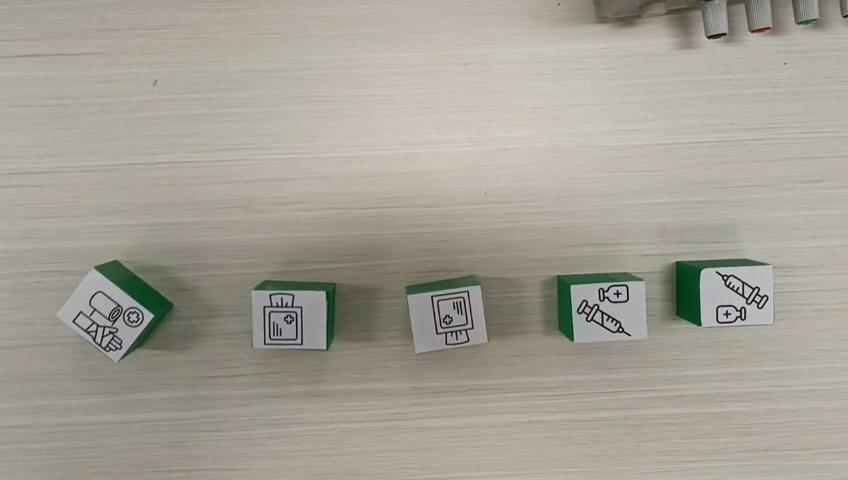Bandages: (53, 258, 173, 361)
Gauze: (404, 274, 489, 354), (250, 278, 336, 349)
antiseptic cream: (673, 258, 775, 328), (556, 270, 649, 342)
